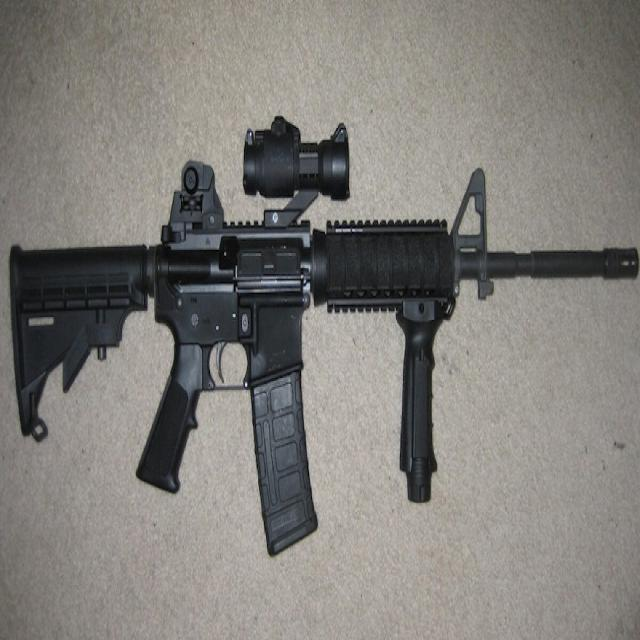Rifle: (10, 120, 636, 558)
